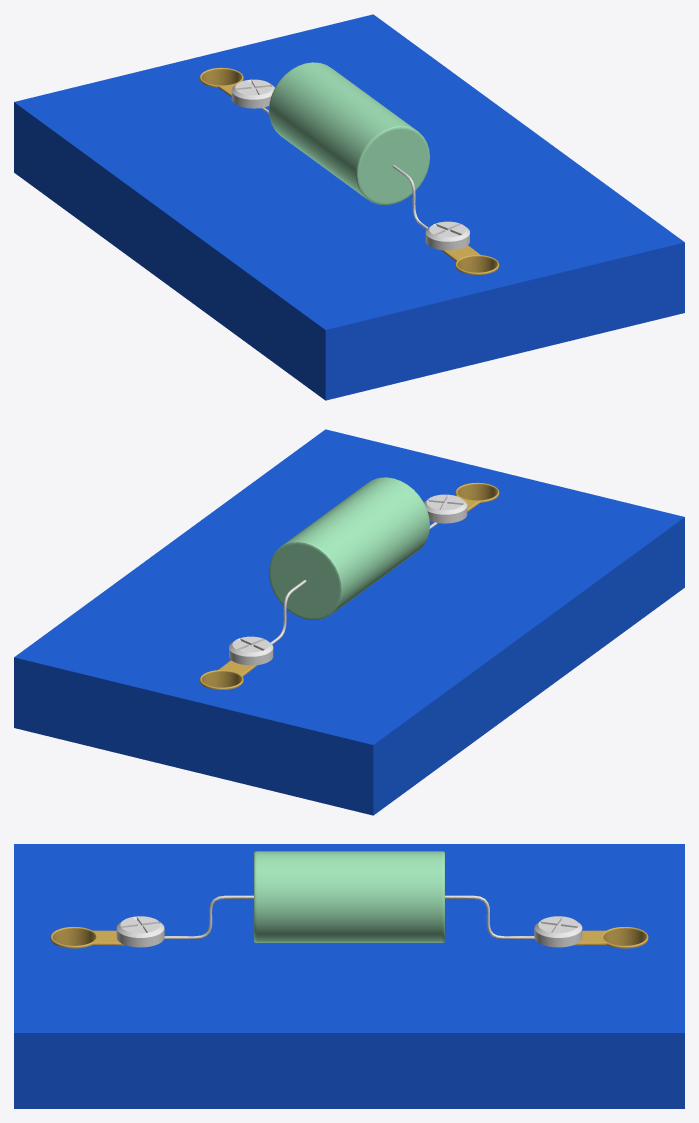
File: opt_resistor.fbx
3 renders of one model, top to bottom at view 1: azimuth 30°, elevation 25°; view 2: azimuth 150°, elevation 25°; view 3: azimuth 270°, elevation 25°, orthographic. The views are drawn at different scales.
Visible parts, largest first — view 1: BezierCurve.002; view 2: BezierCurve.002; view 3: BezierCurve.002.
Boxes of the visible parts, x1,y1,x2,y2 form: BezierCurve.002: (14,14,684,400); BezierCurve.002: (14,429,684,815); BezierCurve.002: (14,844,684,1108).
Size of the model in its own units: 3.99 by 1.57 by 6.
